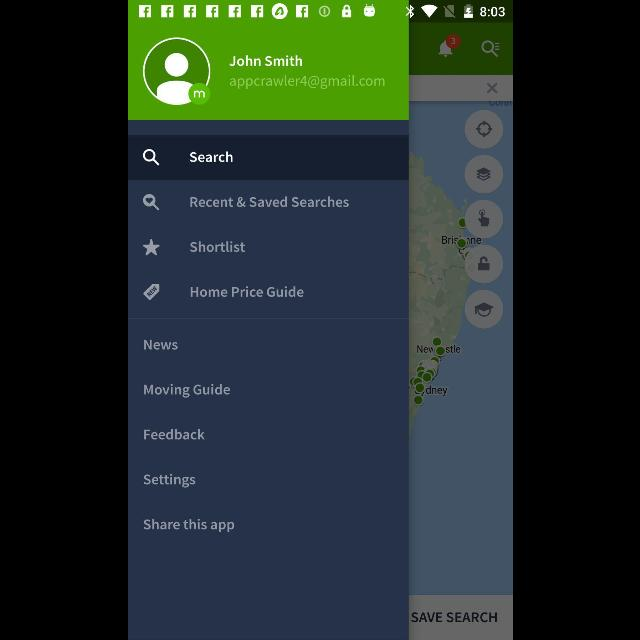icon: (142, 38, 210, 106), (142, 238, 160, 256), (142, 194, 160, 212), (142, 150, 160, 167)
image: (142, 284, 160, 300)
panel: (128, 22, 408, 640)
text: (228, 74, 384, 90), (189, 196, 349, 208), (142, 518, 234, 534), (142, 382, 230, 398), (189, 286, 303, 298), (228, 56, 302, 68), (143, 429, 205, 441), (143, 474, 195, 488), (189, 241, 245, 253), (188, 151, 232, 163), (143, 340, 177, 350)
uppertaskbar: (128, 1, 512, 23)
